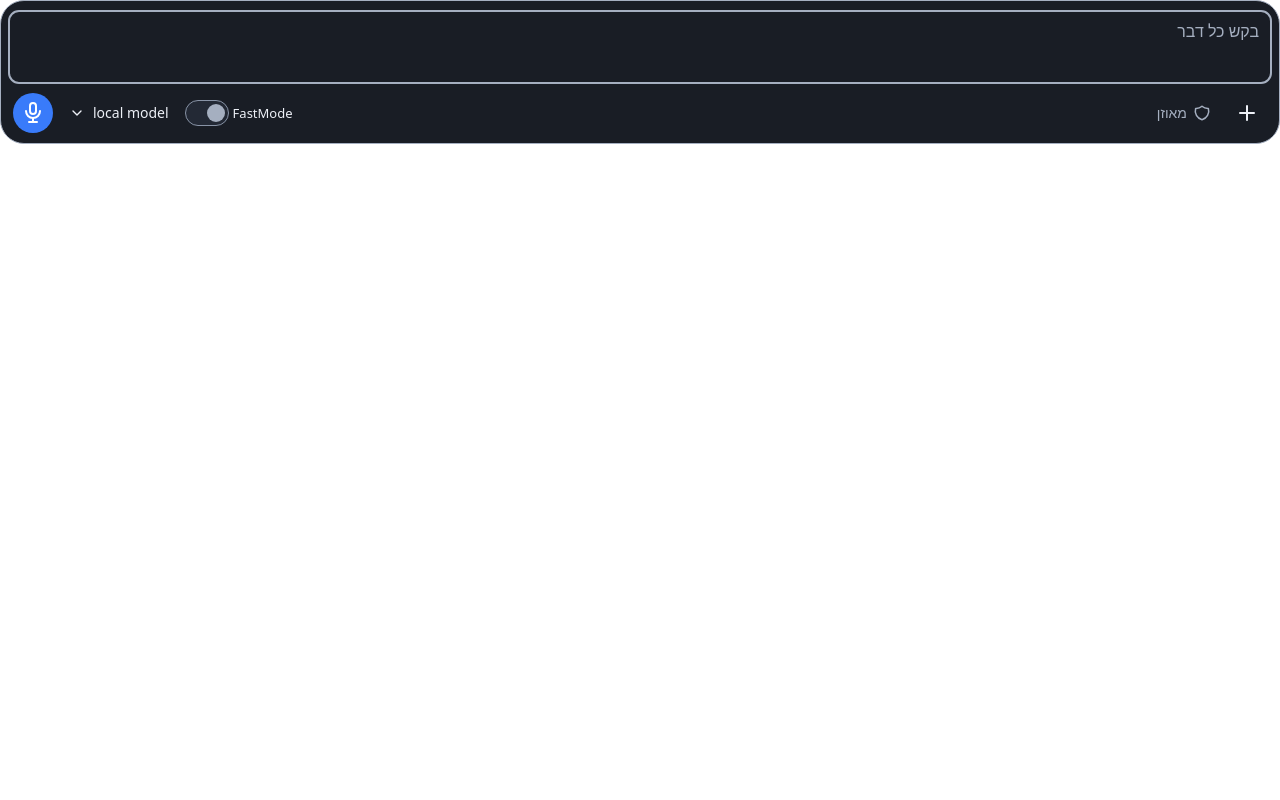
it: composer model selection › does not invent a reasoning control for a model without reasoning options
The image size is (1280, 800).
Click the button with aria-label "בחירת מודל": (119, 113) 61,93 -> 177,133
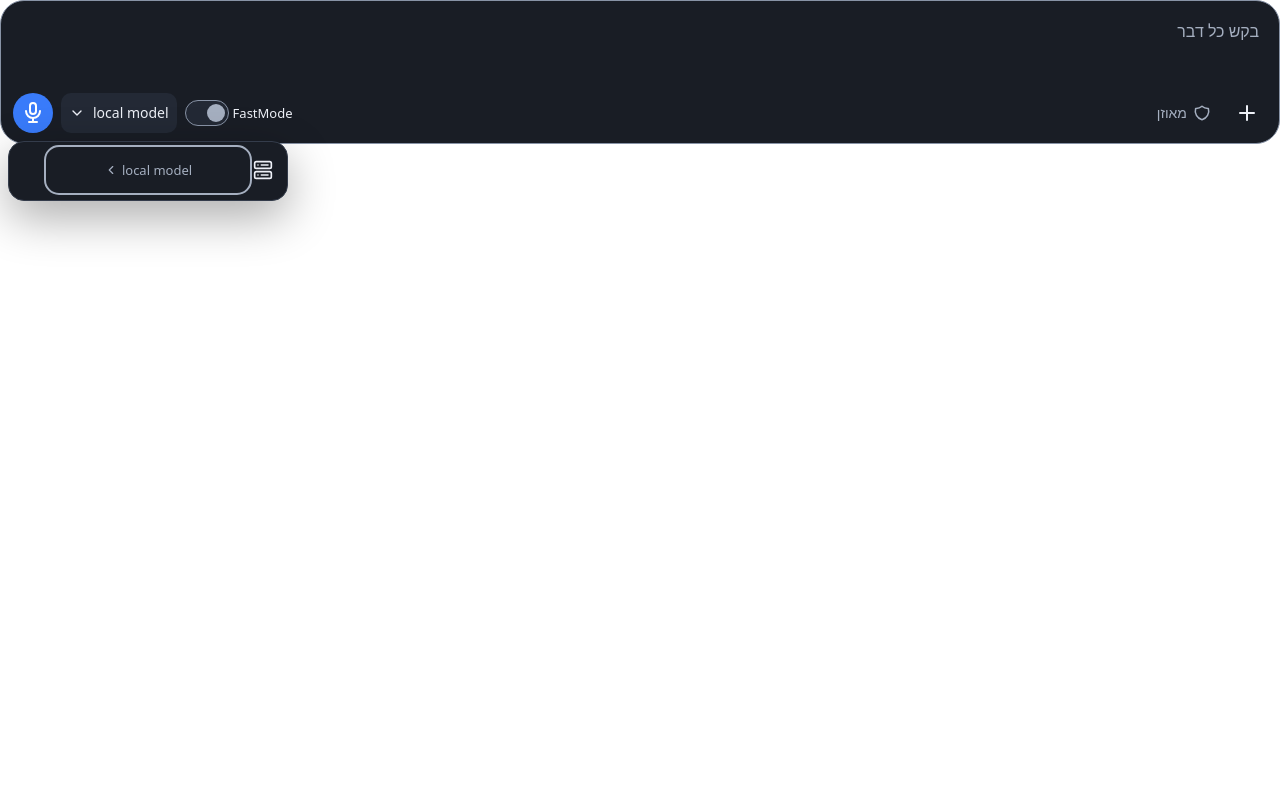
Click the button with aria-label "פתיחת המודלים המועדפים": (148, 170) 49,150 -> 247,190
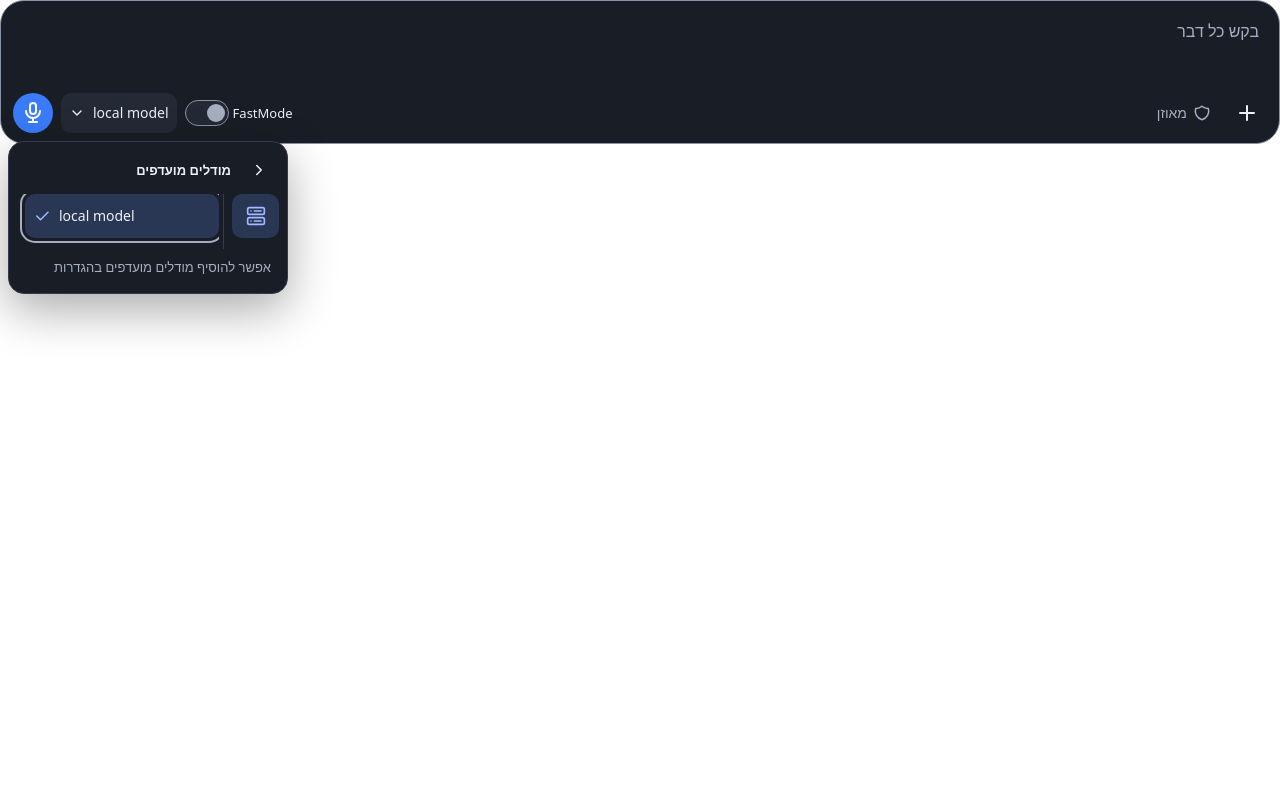
Check: the menu item "local model" is shown, box 25,194 -> 219,238
Click the button named "חזרה לעוצמת החשיבה": (259, 170) 239,150 -> 279,190
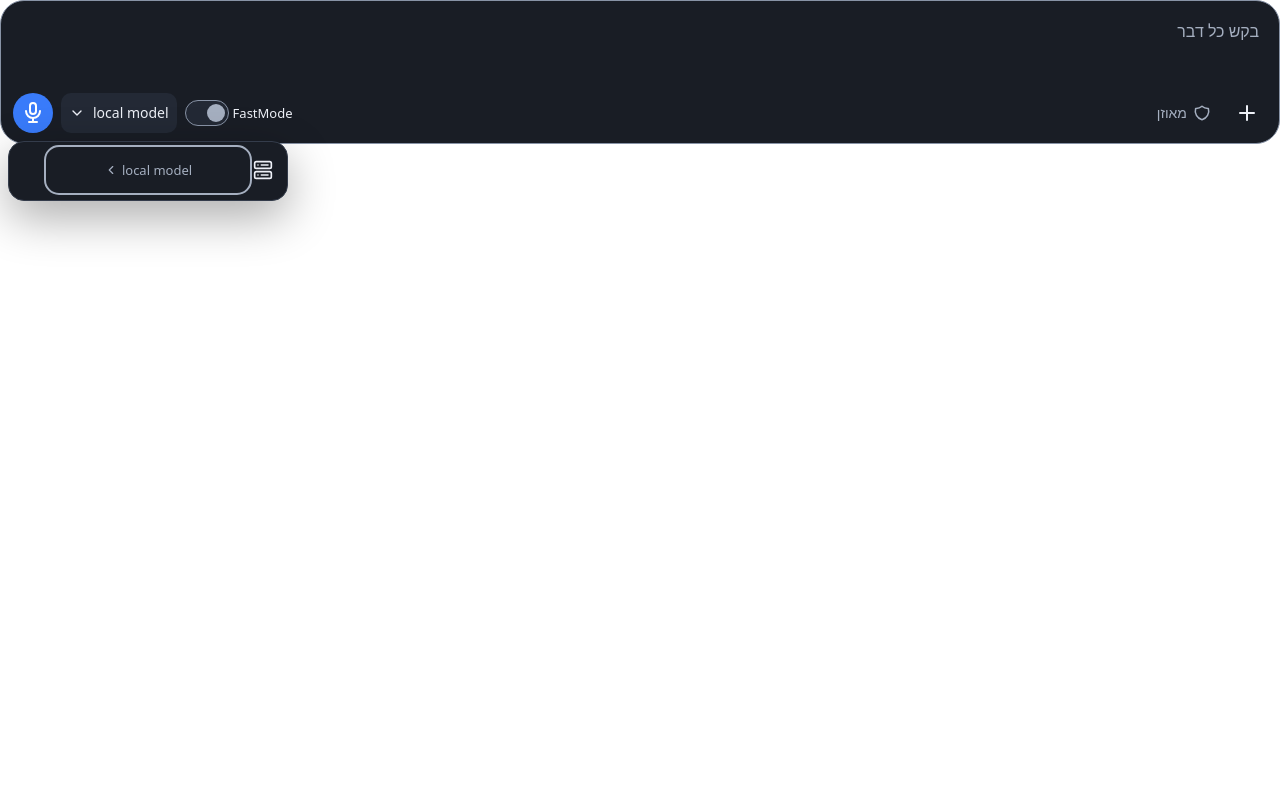
Check: the dialog named "מודל ועוצמת חשיבה" is shown, box 8,141 -> 288,201
